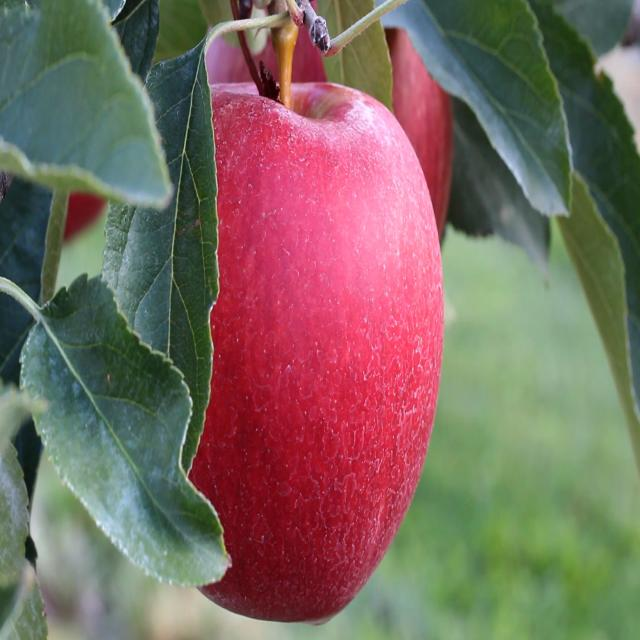Quả táo: (384, 25, 454, 245)
